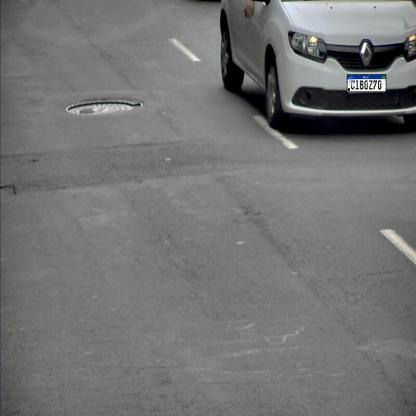PlacaM: (347, 74, 386, 92)
